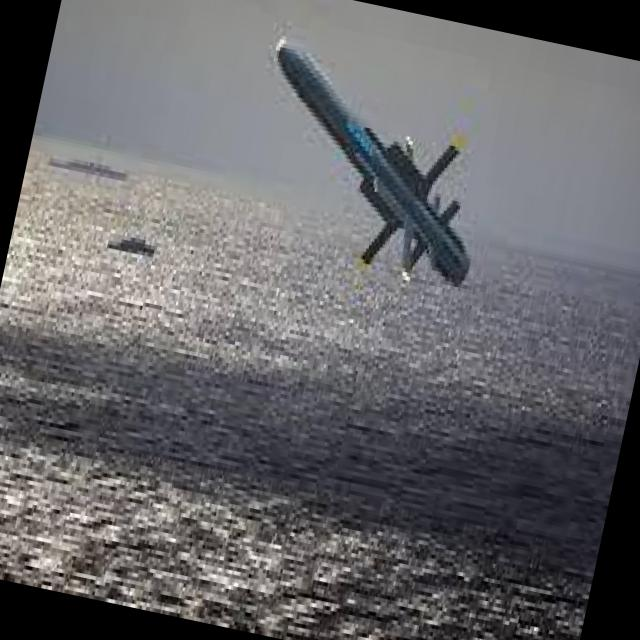rocket: (227, 32, 521, 319)
